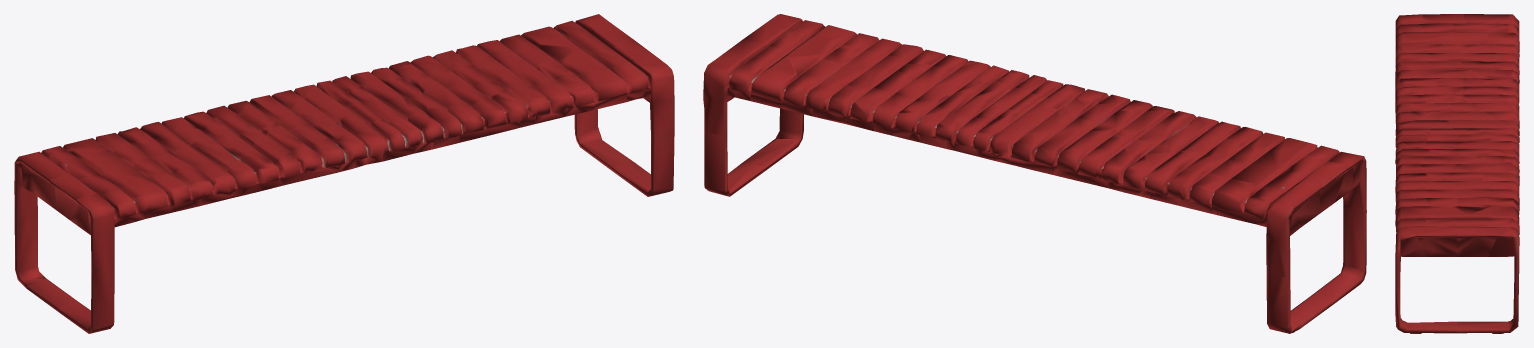
The model's file is bench2_lod1.glb.
3 views of the same model, side by side, from view 1: azimuth 30°, elevation 25°; view 2: azimuth 150°, elevation 25°; view 3: azimuth 270°, elevation 25° (orthographic). The views are drawn at different scales.
Visible parts, largest first — view 1: mesh_node; view 2: mesh_node; view 3: mesh_node.
Boxes of the visible parts, x1,y1,x2,y2 form: mesh_node: (14,14,674,333); mesh_node: (703,14,1366,333); mesh_node: (1395,14,1519,333).
Size of the model in its own units: 1.9 by 0.4083 by 0.4531.
Materials: 1 (1 with a texture image).
